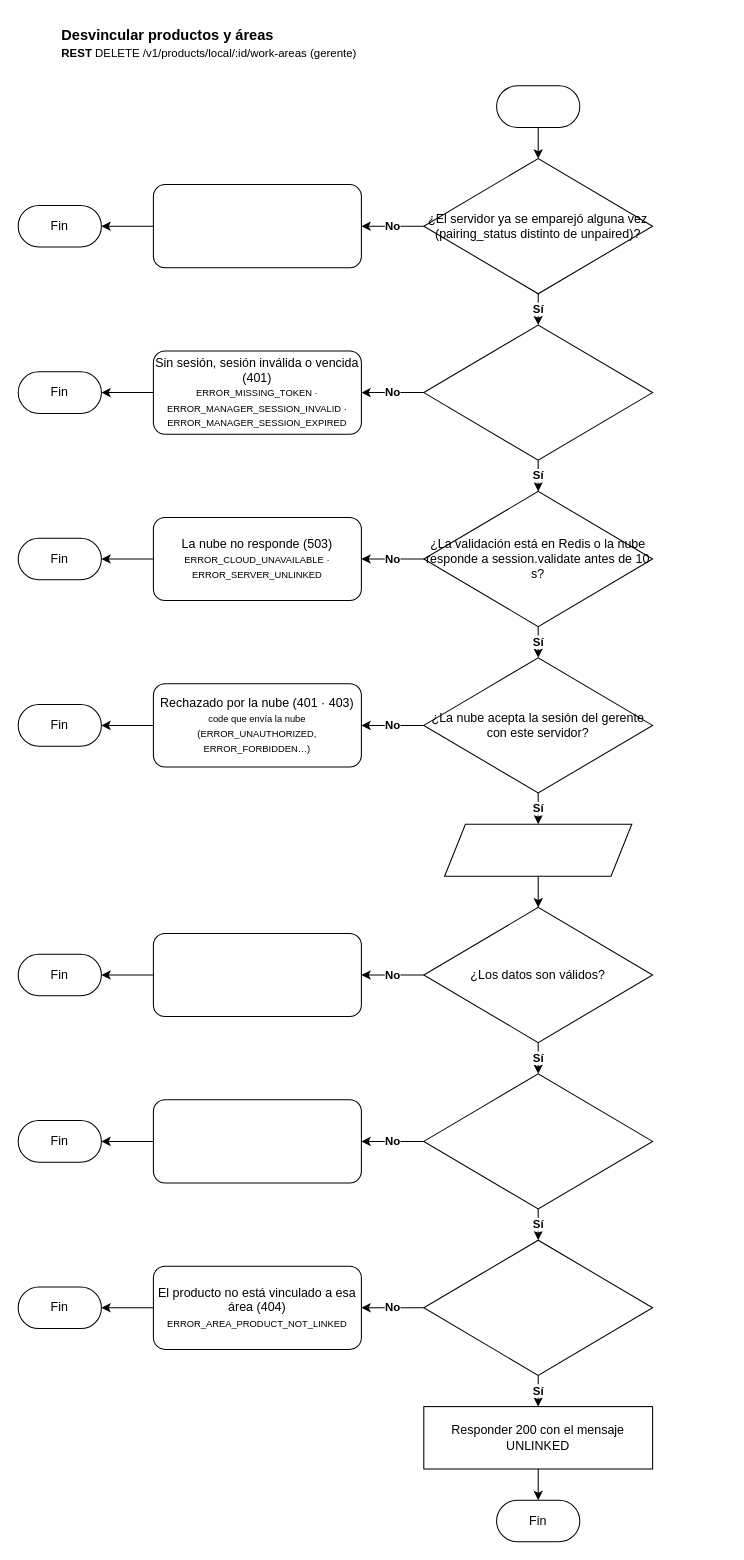
Some shapes in this 744 by 1560 pixel diagram are drawn without their labels. Here are the shapes that lost their labels. From the top down, the centre of each, then its label:
point (538, 106): Inicio
point (256, 226): Servidor sin emparejar (409) ERROR_SERVER_NOT_PAIRED
point (538, 392): ¿Trae una sesión de gerente válida (Bearer mss_..., sin 30 min de inactividad)?
point (538, 849): Recibir datos
point (256, 974): Datos inválidos (400) ERROR_BAD_REQUEST
point (256, 1141): No se encontró el producto (404) ERROR_AREA_PRODUCT_PRODUCT_NOT_FOUND
point (538, 1141): ¿Existe el producto?
point (538, 1307): ¿El producto está vinculado a esa área?
